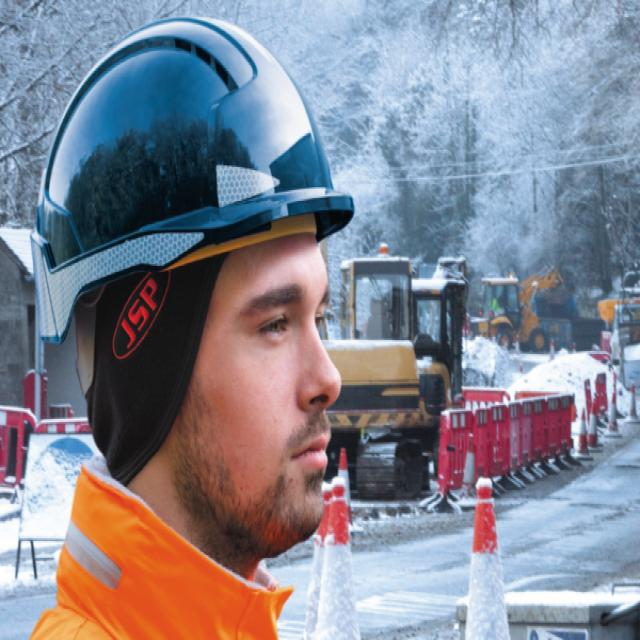Reflective-Jacket: (31, 467, 301, 640)
Safety-Helmet: (35, 28, 355, 281)
